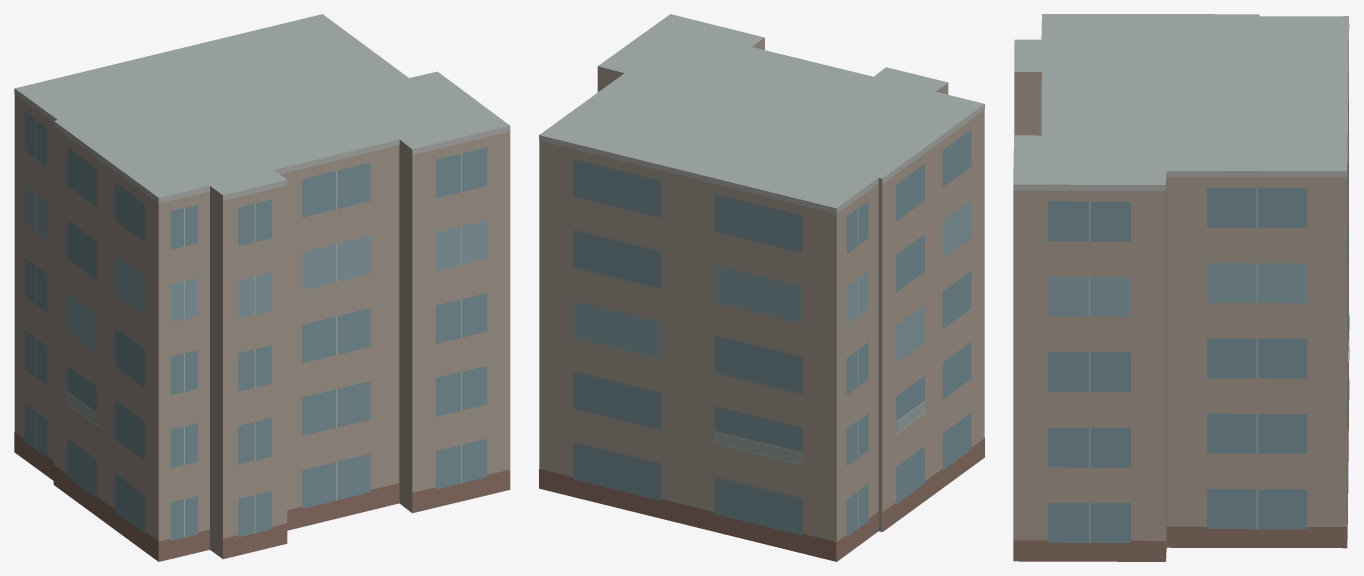
The model's file is survey-upis-33036954.glb.
The picture shows the model from 3 angles, left to right: view 1: azimuth 30°, elevation 25°; view 2: azimuth 150°, elevation 25°; view 3: azimuth 270°, elevation 25°; orthographic projection. The views are drawn at different scales.
Parts seen in each view (by area): view 1: survey-upis-33036954.tmp; view 2: survey-upis-33036954.tmp; view 3: survey-upis-33036954.tmp.
Part boxes in pixels (box(x1,y1,x2,y2)): survey-upis-33036954.tmp: box(14, 14, 510, 561); survey-upis-33036954.tmp: box(539, 14, 984, 561); survey-upis-33036954.tmp: box(1013, 14, 1349, 561).
Size of the model in its own units: 15.04 by 15.4 by 12.48.
